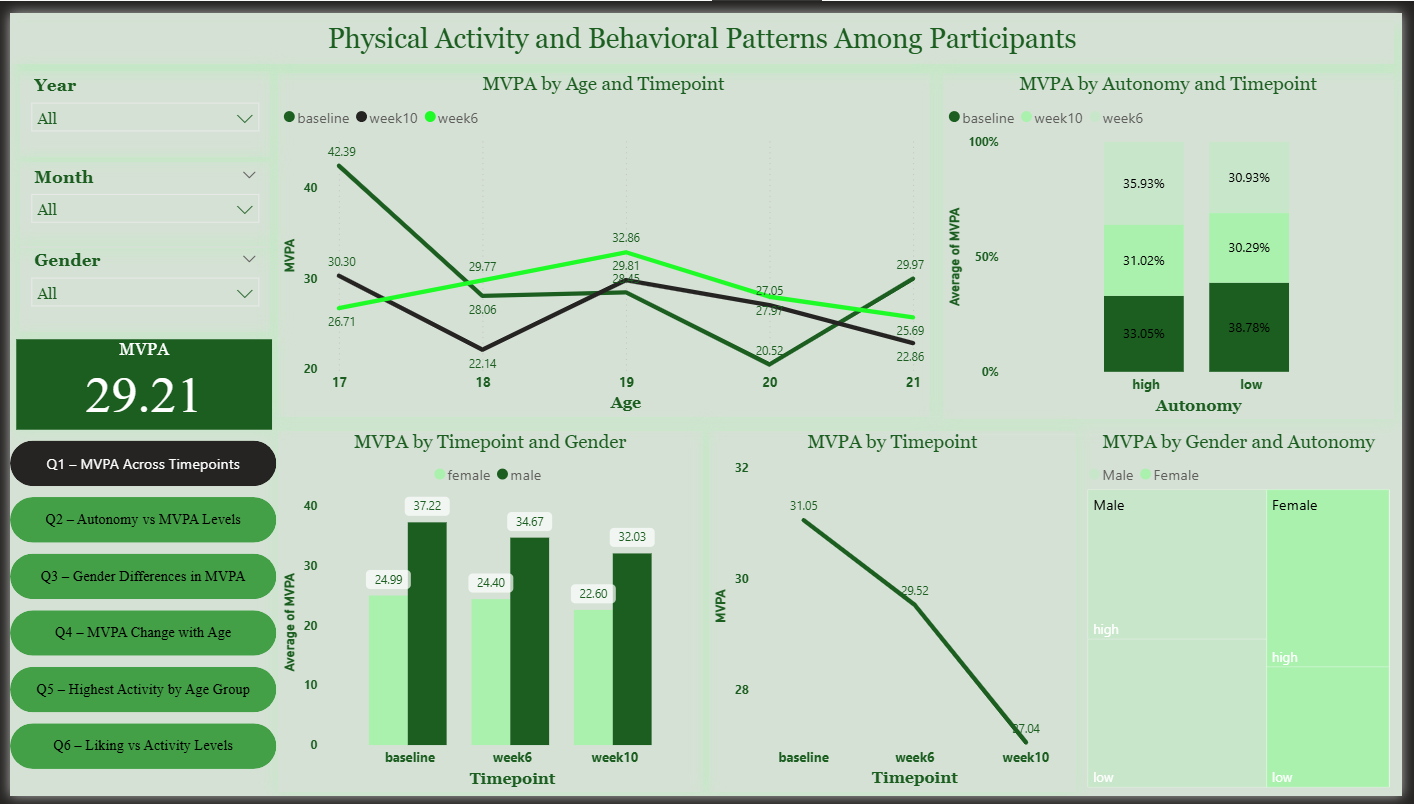

What the dashboard file says about the page in this screenshot:
{"tool":"powerbi","page":{"name":"Q1 – MVPA Across Timepoints","canvas":[1280,720],"ordinal":0},"visuals":[{"type":"slicer","fields":{"Values":["ActivityData_Clean.File_Date.Variation.Date Hierarchy.Year"]},"box":[8.7,53.1,229.8,78.9],"z":0,"group":"g1"},{"type":"textbox","title":"Physical Activity and Behavioral Patterns Among Participants","box":[0,9.7,1272.8,37.4],"z":0},{"type":"slicer","fields":{"Values":["ActivityData_Clean.File_Date.Variation.Date Hierarchy.Month"]},"box":[8.7,136.8,229.8,78.9],"z":1000,"group":"g1"},{"type":"lineChart","title":"MVPA by Timepoint","fields":{"Category":["ActivityData_Clean.Timepoint"],"Y":["Avg(ActivityData_Clean.MVPA)"]},"box":[643,383.6,337.8,333],"z":1000},{"type":"slicer","fields":{"Values":["ActivityData_Clean.Gender"]},"box":[9.1,214.3,229.9,79.2],"z":2000,"group":"g1"},{"type":"lineClusteredColumnComboChart","title":"MVPA by Timepoint and Gender","fields":{"Series":["ActivityData_Clean.Gender"],"Category":["ActivityData_Clean.Timepoint"],"Y":["Avg(ActivityData_Clean.MVPA)"]},"box":[246.1,383.6,390.9,333],"z":2000},{"type":"lineChart","title":"MVPA by Age and Timepoint","fields":{"Category":["Demographics_Clean.Age"],"Series":["ActivityData_Clean.Timepoint"],"Y":["Avg(ActivityData_Clean.MVPA)"]},"box":[246.1,55.5,599.6,316.1],"z":3000},{"type":"hundredPercentStackedColumnChart","title":"MVPA by Autonomy and Timepoint","fields":{"Category":["ActivityData_Clean.Autonomy"],"Series":["ActivityData_Clean.Timepoint"],"Y":["Avg(ActivityData_Clean.MVPA)"]},"box":[857.8,55.5,415,318.5],"z":4000},{"type":"kpi","title":"MVPA ","fields":{"Indicator":["Avg(ActivityData_Clean.MVPA)"],"TrendLine":["LikingData_Clean.Week"]},"box":[6,299.9,235.1,83.1],"z":5000,"group":"g1"},{"type":"treemap","fields":{"Group":["Demographics_Clean.Gender"],"Values":["Avg(ActivityData_Clean.MVPA)"],"Details":["ActivityData_Clean.Autonomy"]},"box":[985.7,383.6,287.1,333],"z":5000},{"type":"pageNavigator","box":[0,393.5,245.5,307.8],"z":6001,"group":"g1"},{"type":"group","id":"g1","title":"Group 1","box":[0,53.1,245.5,648.2],"z":6002}]}

Visuals, with their boxes in screenshot pixels (x1, y1, x2, y2), scaled from the page's 1280x720 canvas onto the 1414x804 screenshot:
slicer - ActivityData_Clean.File_Date.Variation.Date Hierarchy.Year: <region>10, 59, 263, 147</region>
"Physical Activity and Behavioral Patterns Among Participants" textbox: <region>0, 11, 1406, 53</region>
slicer - ActivityData_Clean.File_Date.Variation.Date Hierarchy.Month: <region>10, 153, 263, 241</region>
"MVPA by Timepoint" lineChart: <region>710, 428, 1083, 800</region>
slicer - ActivityData_Clean.Gender: <region>10, 239, 264, 328</region>
"MVPA by Timepoint and Gender" lineClusteredColumnComboChart: <region>272, 428, 704, 800</region>
"MVPA by Age and Timepoint" lineChart: <region>272, 62, 934, 415</region>
"MVPA by Autonomy and Timepoint" hundredPercentStackedColumnChart: <region>948, 62, 1406, 418</region>
"MVPA " kpi: <region>7, 335, 266, 428</region>
treemap - Demographics_Clean.Gender x Avg(ActivityData_Clean.MVPA): <region>1089, 428, 1406, 800</region>
pageNavigator: <region>0, 439, 271, 783</region>
"Group 1" group: <region>0, 59, 271, 783</region>
